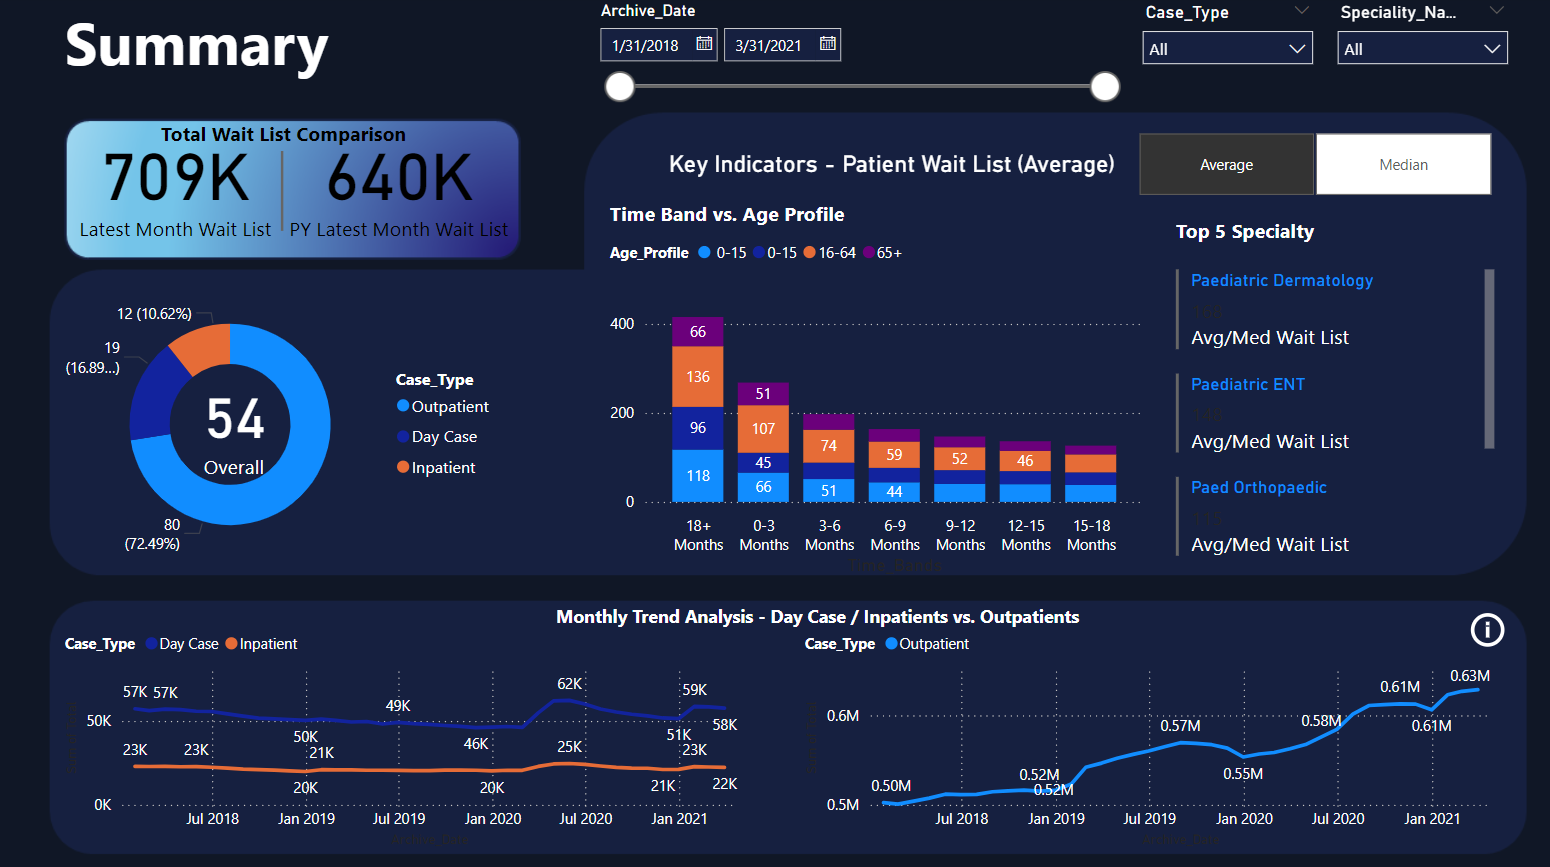

Layout of this report page (visuals, bound fields, positions):
{"tool":"powerbi","page":{"name":"Summary","canvas":[1280,720],"ordinal":0},"visuals":[{"type":"card","fields":{"Values":["All_Data.Latest Month Wait List"]},"box":[48,96,192,112],"z":0},{"type":"card","fields":{"Values":["All_Data.PY Latest Month Wait List"]},"box":[224,96,208,112],"z":1000},{"type":"slicer","fields":{"Values":["Calculation Method.Calc Method"]},"box":[909.8,105.7,338.9,64.5],"z":2000},{"type":"donutChart","fields":{"Category":["All_Data.Case_Type"],"Y":["All_Data.Avg/Med Wait List"]},"box":[48,223.7,367.8,256.6],"z":3000},{"type":"columnChart","fields":{"Y":["All_Data.Avg/Med Wait List"],"Category":["All_Data.Time_Bands"],"Series":["All_Data.Age_Profile"]},"box":[495.4,190.7,448.7,289.5],"z":4000},{"type":"multiRowCard","fields":{"Values":["All_Data.Avg/Med Wait List","All_Data.Speciality_Name"]},"box":[960.5,219.6,271.7,260.7],"z":5000},{"type":"card","fields":{"Values":["All_Data.NoDataLeft"]},"box":[127.6,575,388.3,64.5],"z":6000},{"type":"lineChart","fields":{"Y":["Sum(All_Data.Total)"],"Category":["All_Data.Archive_Date"],"Series":["All_Data.Case_Type"]},"box":[48,512,576,192],"z":7000},{"type":"card","fields":{"Values":["All_Data.NoDataRight"]},"box":[790.4,575,388.3,64.5],"z":8000},{"type":"lineChart","fields":{"Y":["Sum(All_Data.Total)"],"Category":["All_Data.Archive_Date"],"Series":["All_Data.Case_Type"]},"box":[656,512,576,192],"z":9000},{"type":"slicer","fields":{"Values":["All_Data.Archive_Date"]},"box":[480,0,448,160],"z":10000},{"type":"slicer","fields":{"Values":["All_Data.Case_Type"]},"box":[928,0,160,64],"z":11000},{"type":"slicer","fields":{"Values":["All_Data.Speciality_Name"]},"box":[1088,0,160,64],"z":12000},{"type":"textbox","box":[48,0,240,96],"z":13000},{"type":"card","fields":{"Values":["All_Data.Avg/Med Wait List"]},"box":[128,288,128,128],"z":14000},{"type":"shape","box":[82.3,127.6,299.1,65.9],"z":15000},{"type":"textbox","box":[127.6,96.1,225,31.6],"z":16000},{"type":"textbox","box":[495.4,161.9,225,31.6],"z":17000},{"type":"textbox","box":[960.5,177,138.6,31.6],"z":18000},{"type":"textbox","box":[451.5,494,492.6,37],"z":19000},{"type":"card","fields":{"Values":["All_Data.Dynamic Title"]},"box":[536.5,113.9,391.1,48],"z":20000},{"type":"actionButton","box":[1203.2,501.9,44.4,37.2],"z":21000}]}

Visuals, with their boxes in screenshot pixels (x1, y1, x2, y2), scaled from the page's 1280x720 canvas onto the 1550x867 screenshot:
card - All_Data.Latest Month Wait List: (left=58, top=116, right=291, bottom=250)
card - All_Data.PY Latest Month Wait List: (left=271, top=116, right=523, bottom=250)
slicer - Calculation Method.Calc Method: (left=1102, top=127, right=1512, bottom=205)
donutChart - All_Data.Case_Type x All_Data.Avg/Med Wait List: (left=58, top=269, right=504, bottom=578)
columnChart - All_Data.Avg/Med Wait List x All_Data.Time_Bands: (left=600, top=230, right=1143, bottom=578)
multiRowCard - All_Data.Avg/Med Wait List x All_Data.Speciality_Name: (left=1163, top=264, right=1492, bottom=578)
card - All_Data.NoDataLeft: (left=155, top=692, right=625, bottom=770)
lineChart - Sum(All_Data.Total) x All_Data.Archive_Date: (left=58, top=617, right=756, bottom=848)
card - All_Data.NoDataRight: (left=957, top=692, right=1427, bottom=770)
lineChart - Sum(All_Data.Total) x All_Data.Archive_Date: (left=794, top=617, right=1492, bottom=848)
slicer - All_Data.Archive_Date: (left=581, top=0, right=1124, bottom=193)
slicer - All_Data.Case_Type: (left=1124, top=0, right=1318, bottom=77)
slicer - All_Data.Speciality_Name: (left=1318, top=0, right=1511, bottom=77)
textbox: (left=58, top=0, right=349, bottom=116)
card - All_Data.Avg/Med Wait List: (left=155, top=347, right=310, bottom=501)
shape: (left=100, top=154, right=462, bottom=233)
textbox: (left=155, top=116, right=427, bottom=154)
textbox: (left=600, top=195, right=872, bottom=233)
textbox: (left=1163, top=213, right=1331, bottom=251)
textbox: (left=547, top=595, right=1143, bottom=639)
card - All_Data.Dynamic Title: (left=650, top=137, right=1123, bottom=195)
actionButton: (left=1457, top=604, right=1511, bottom=649)
